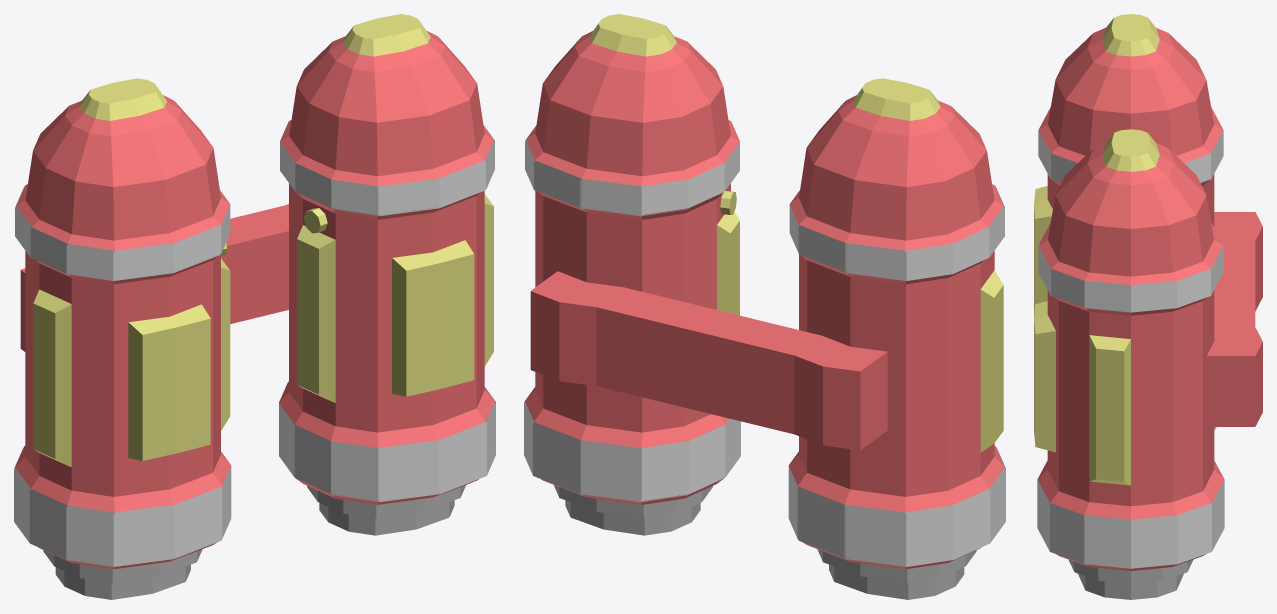
The model's file is jetpack.fbx.
The picture shows the model from 3 angles, left to right: view 1: azimuth 30°, elevation 25°; view 2: azimuth 150°, elevation 25°; view 3: azimuth 270°, elevation 25°; orthographic projection. The views are drawn at different scales.
Visible parts, largest first — view 1: jetpack.glow, glow-part; view 2: jetpack.glow, glow-part; view 3: jetpack.glow, glow-part.
Part boxes in pixels (bbox=[...]): jetpack.glow: bbox=[15, 14, 494, 599]; glow-part: bbox=[14, 126, 495, 566]; jetpack.glow: bbox=[525, 14, 1004, 599]; glow-part: bbox=[524, 126, 1005, 566]; jetpack.glow: bbox=[1034, 14, 1262, 599]; glow-part: bbox=[1037, 156, 1224, 568].
Bounding box in the file's own units: 4.51 × 4.6 × 2.21.
